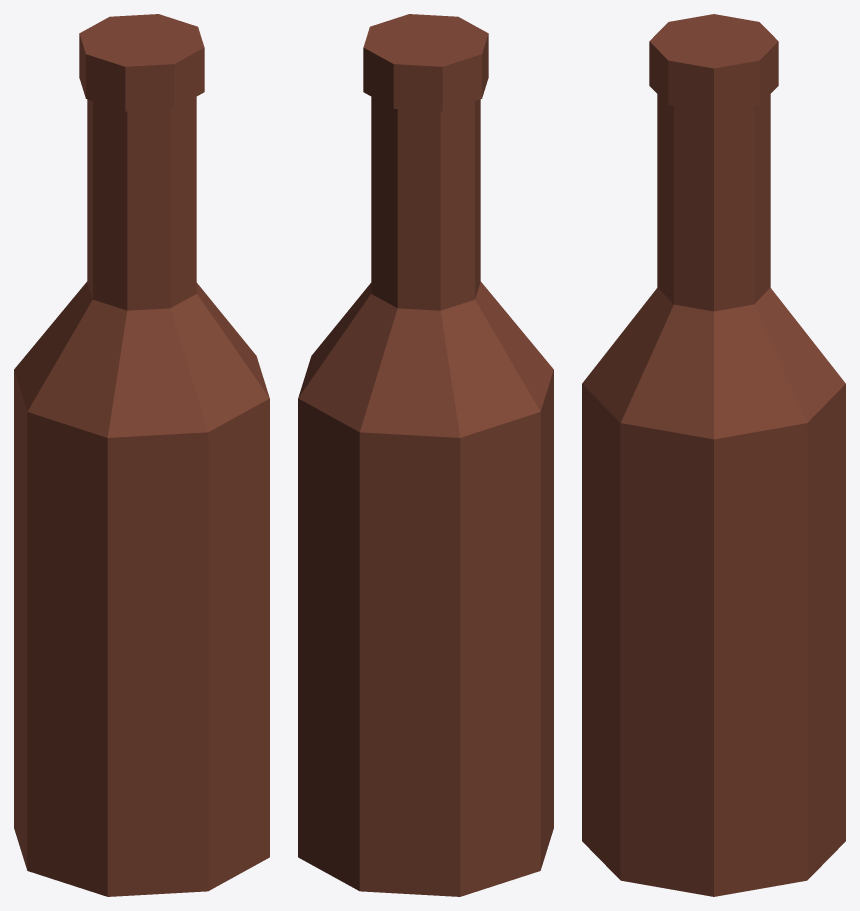
Rendered from Beer.fbx.
3 renders of one model, left to right at view 1: azimuth 30°, elevation 25°; view 2: azimuth 150°, elevation 25°; view 3: azimuth 270°, elevation 25°, orthographic.
Visible parts, largest first — view 1: Cylinder; view 2: Cylinder; view 3: Cylinder.
Boxes of the visible parts, box(x1,y1,x2,y2) form: Cylinder: box(14, 14, 269, 896); Cylinder: box(298, 14, 553, 896); Cylinder: box(582, 14, 845, 896).
Bounding box in the file's own units: 117 × 390 × 117.
